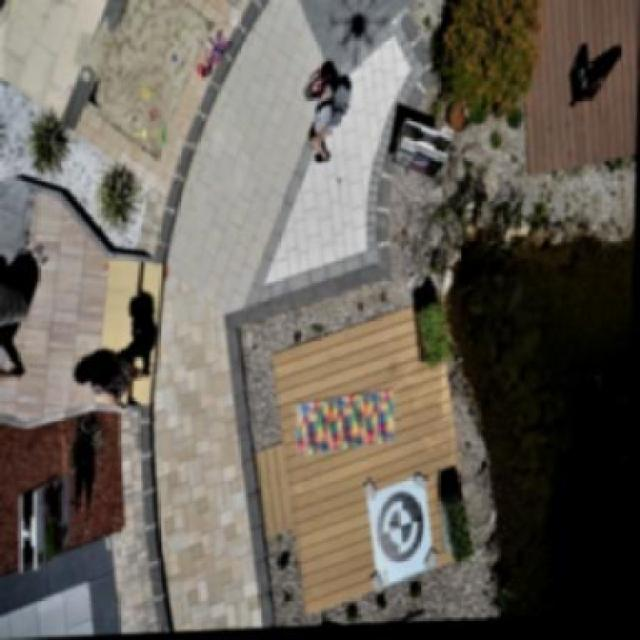Person: (288, 62, 347, 182), (64, 346, 150, 408)
